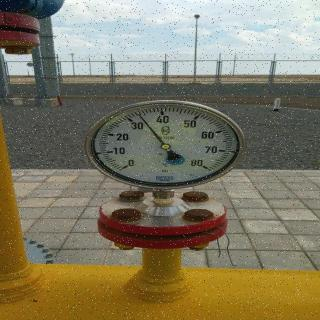gauge: (85, 96, 248, 190), (189, 158, 215, 174), (116, 158, 136, 174), (134, 109, 142, 118), (162, 144, 170, 150)
